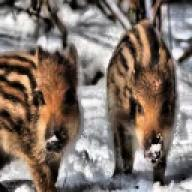boar: (105, 18, 177, 186), (0, 43, 81, 192)
